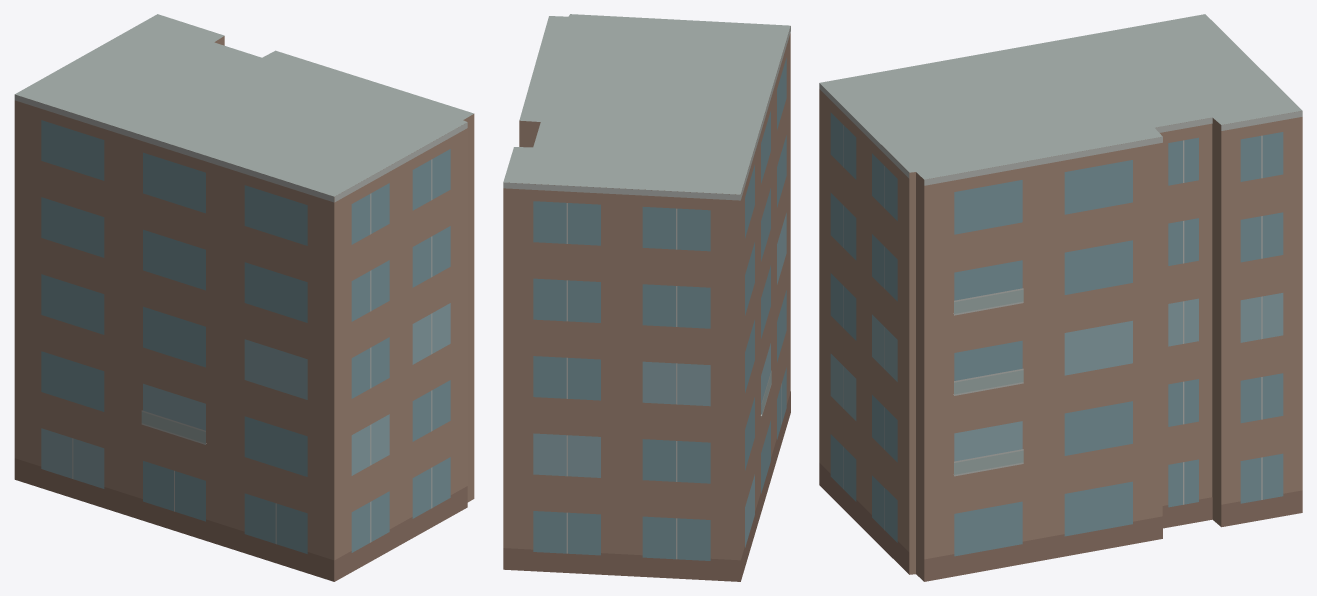
File: survey-upis-32892084.glb
3 renders of one model, left to right at view 1: azimuth 30°, elevation 25°; view 2: azimuth 150°, elevation 25°; view 3: azimuth 270°, elevation 25°, orthographic. The views are drawn at different scales.
Parts seen in each view (by area): view 1: survey-upis-32892084.tmp; view 2: survey-upis-32892084.tmp; view 3: survey-upis-32892084.tmp.
Part boxes in pixels (x1=…): survey-upis-32892084.tmp: x1=14, y1=14, x2=474, y2=581; survey-upis-32892084.tmp: x1=503, y1=14, x2=790, y2=581; survey-upis-32892084.tmp: x1=819, y1=14, x2=1302, y2=581.
Bounding box in the file's own units: 14.15 × 16 × 17.43.
